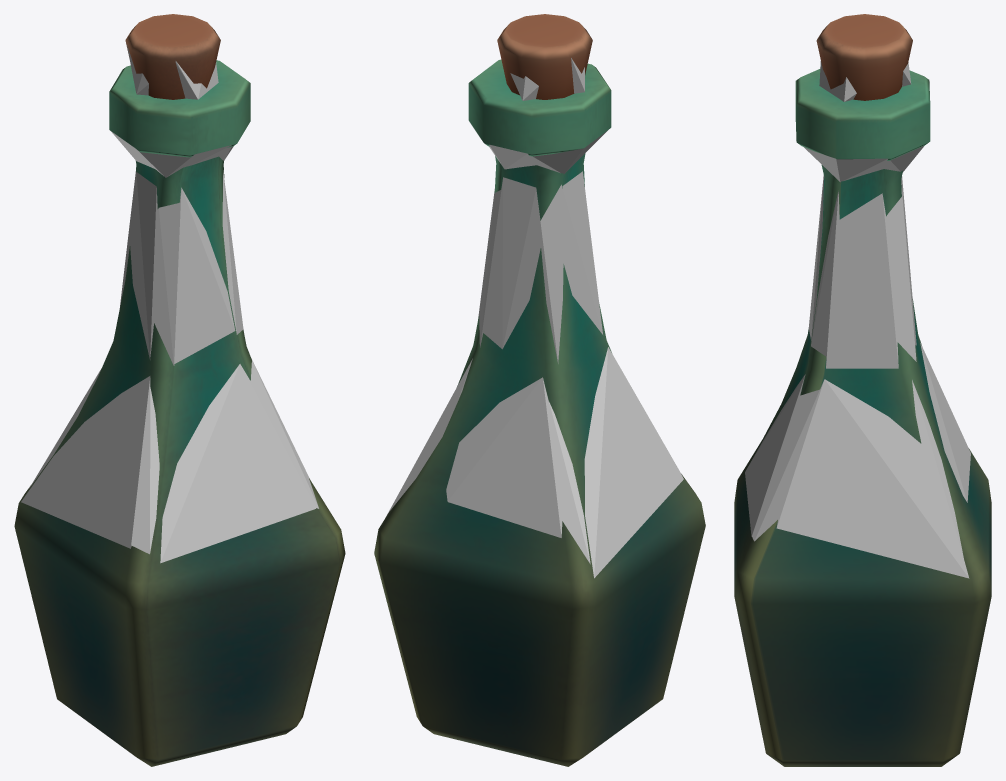
The model's file is SM_Bottle_a.fbx.
3 renders of one model, left to right at view 1: azimuth 30°, elevation 25°; view 2: azimuth 150°, elevation 25°; view 3: azimuth 270°, elevation 25°, orthographic.
Parts seen in each view (by area): view 1: SM_Bottle_a, SM_Bottle_a_ConvexHulls; view 2: SM_Bottle_a, SM_Bottle_a_ConvexHulls; view 3: SM_Bottle_a, SM_Bottle_a_ConvexHulls.
Boxes of the visible parts, x1,y1,x2,y2 form: SM_Bottle_a: (14,14,345,766); SM_Bottle_a_ConvexHulls: (21,42,318,563); SM_Bottle_a: (374,14,705,766); SM_Bottle_a_ConvexHulls: (385,58,683,578); SM_Bottle_a: (734,14,991,766); SM_Bottle_a_ConvexHulls: (745,61,970,578).
Bounding box in the file's own units: 15.86 × 15.86 × 47.62.
